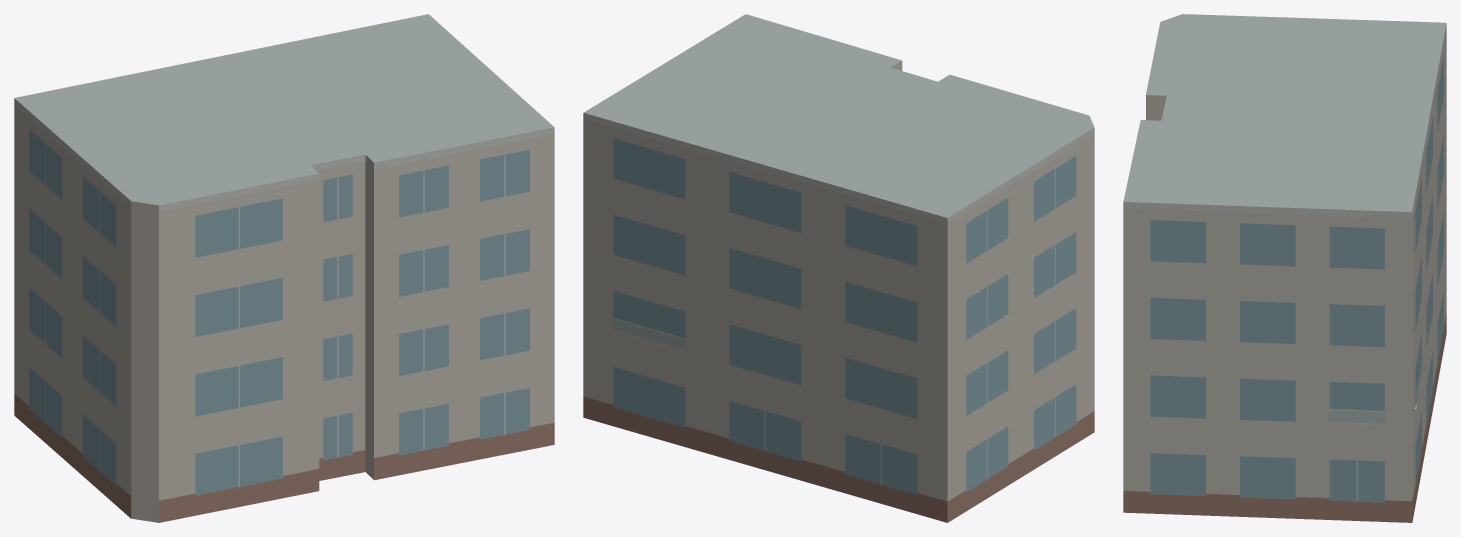
File: survey-upis-32663433.glb
3 views of the same model, side by side, from view 1: azimuth 30°, elevation 25°; view 2: azimuth 150°, elevation 25°; view 3: azimuth 270°, elevation 25° (orthographic). The views are drawn at different scales.
Parts seen in each view (by area): view 1: survey-upis-32663433.tmp; view 2: survey-upis-32663433.tmp; view 3: survey-upis-32663433.tmp.
Boxes of the visible parts, x1,y1,x2,y2 form: survey-upis-32663433.tmp: (14,14,554,522); survey-upis-32663433.tmp: (583,14,1094,522); survey-upis-32663433.tmp: (1123,14,1446,522).
Bounding box in the file's own units: 16.28 × 11.9 × 11.23.
